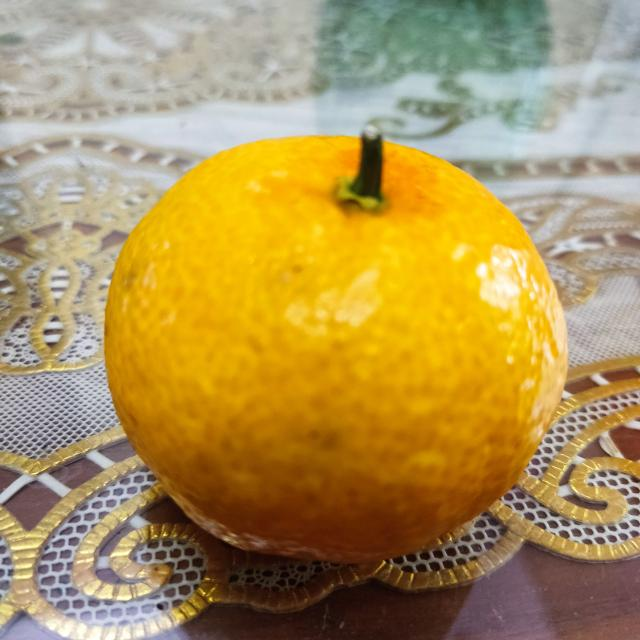orange: (100, 133, 568, 566)
